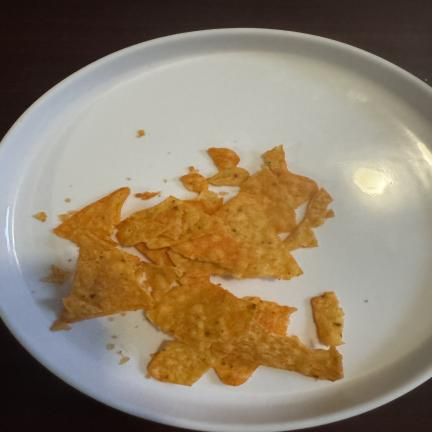chips: (52, 146, 343, 385), (147, 284, 342, 380), (214, 320, 342, 380), (215, 193, 302, 279), (147, 283, 256, 350), (61, 247, 152, 322), (117, 197, 223, 248), (54, 188, 130, 245), (241, 165, 295, 232), (147, 202, 223, 248), (263, 145, 318, 208), (171, 231, 252, 271), (117, 197, 183, 245), (284, 189, 334, 250), (148, 341, 210, 385), (243, 297, 296, 335), (244, 297, 296, 335), (311, 292, 344, 346), (168, 250, 231, 277), (212, 350, 259, 386), (140, 262, 182, 301), (208, 148, 249, 185), (305, 188, 334, 227), (284, 219, 317, 251), (185, 191, 223, 215), (135, 243, 174, 266), (208, 168, 249, 185), (209, 148, 239, 170), (181, 171, 208, 193), (41, 265, 70, 284), (178, 276, 209, 285), (50, 319, 71, 331), (135, 191, 161, 200), (59, 211, 77, 221), (33, 212, 47, 222), (326, 210, 335, 218), (137, 130, 145, 137), (218, 192, 228, 195)
